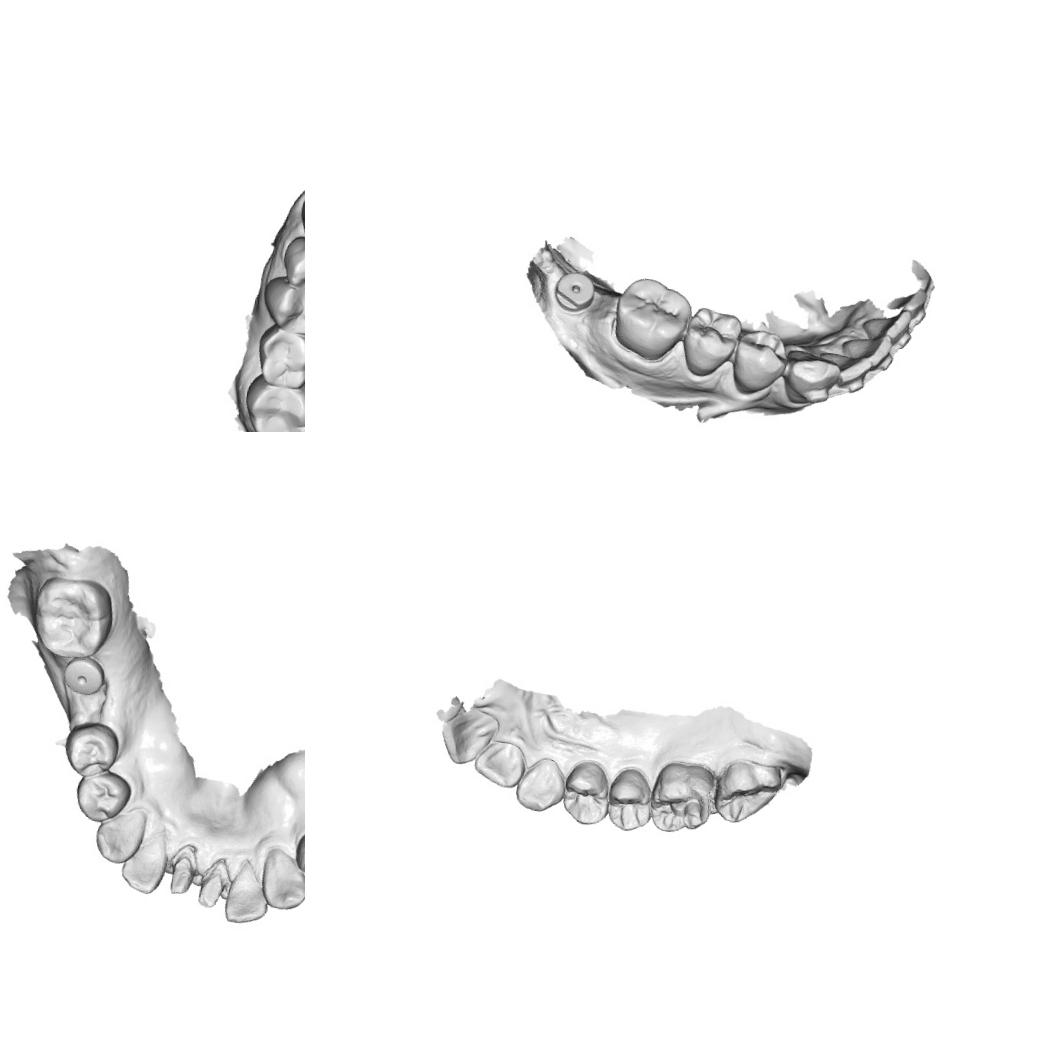canine: (778, 344, 844, 412), (90, 802, 150, 868), (511, 752, 568, 817), (256, 845, 305, 914)
crown: (194, 855, 230, 911), (167, 842, 199, 900)
implant: (550, 267, 599, 318), (58, 655, 108, 699)
incisor: (436, 702, 503, 771), (115, 827, 172, 897), (222, 855, 274, 928), (470, 736, 530, 791), (858, 303, 916, 346), (838, 328, 895, 371), (816, 350, 876, 390), (883, 285, 929, 318)
molar: (606, 272, 698, 368), (26, 571, 119, 664), (643, 757, 717, 839), (710, 754, 786, 831), (237, 372, 305, 432), (252, 323, 305, 392)
premolar: (678, 302, 746, 383), (728, 324, 792, 399), (59, 717, 124, 783), (601, 762, 657, 836), (558, 755, 614, 829), (71, 766, 136, 828), (255, 275, 305, 339), (278, 233, 305, 297), (290, 829, 305, 891)
